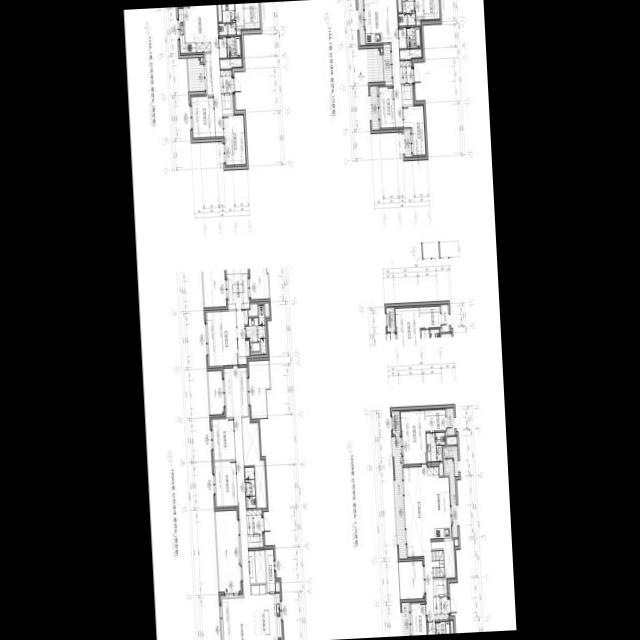background: (123, 0, 517, 640)
space_balconi: (215, 511, 240, 592), (393, 436, 406, 559), (444, 446, 459, 538), (248, 361, 269, 419), (399, 561, 424, 600), (208, 371, 223, 415), (367, 48, 383, 82), (187, 58, 203, 92), (370, 86, 378, 130), (401, 603, 410, 636), (383, 48, 391, 82), (447, 408, 455, 436), (403, 131, 411, 157)
space_bedroom: (206, 311, 238, 366), (400, 411, 427, 465), (223, 115, 246, 167), (403, 106, 426, 157), (214, 461, 237, 507), (191, 96, 215, 139), (211, 419, 235, 460), (378, 87, 395, 130), (410, 603, 426, 636)
space_dressroom: (226, 268, 249, 310), (424, 410, 446, 431), (243, 3, 260, 30), (423, 0, 440, 21)
space_front: (246, 510, 262, 535), (433, 596, 448, 620), (400, 61, 413, 85), (220, 70, 232, 94)
space_kitchen: (250, 585, 282, 640), (428, 467, 451, 539), (178, 7, 211, 53), (364, 0, 390, 44)
space_living_room: (221, 367, 253, 640), (403, 467, 434, 621), (189, 5, 223, 138), (388, 0, 403, 129)
space_other: (242, 418, 266, 508), (431, 540, 455, 578), (236, 311, 249, 365), (265, 550, 275, 593), (431, 550, 445, 579), (204, 53, 213, 95), (255, 550, 266, 583), (402, 85, 414, 105), (433, 579, 447, 596), (399, 49, 421, 59), (222, 95, 233, 115), (220, 59, 242, 69), (249, 551, 255, 584), (248, 536, 263, 548), (219, 37, 227, 58), (398, 28, 406, 49), (248, 304, 258, 316), (427, 622, 435, 635), (447, 437, 457, 445), (397, 0, 402, 12), (264, 304, 269, 316), (439, 463, 443, 476), (450, 621, 453, 634), (275, 583, 279, 592), (454, 539, 458, 546), (236, 31, 241, 35), (416, 21, 421, 25), (380, 48, 382, 52), (201, 58, 203, 62)
space_outdoor_room: (391, 411, 400, 435)
space_toilet: (245, 305, 266, 355), (426, 433, 445, 462), (218, 4, 235, 35), (245, 467, 256, 508), (398, 0, 415, 26), (406, 27, 421, 48), (227, 37, 241, 57), (435, 622, 450, 634)
